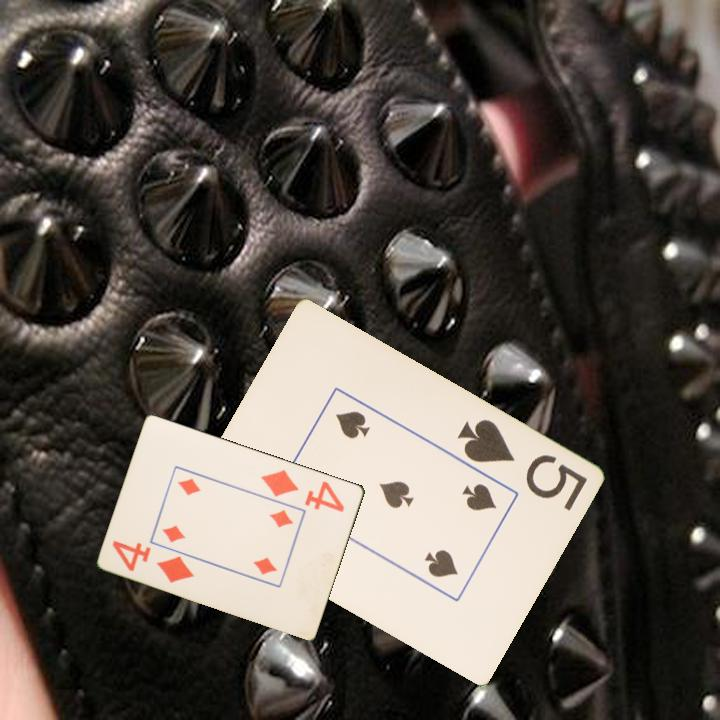4d: (258, 465, 348, 515), (109, 536, 198, 586)
5s: (453, 415, 590, 514)
